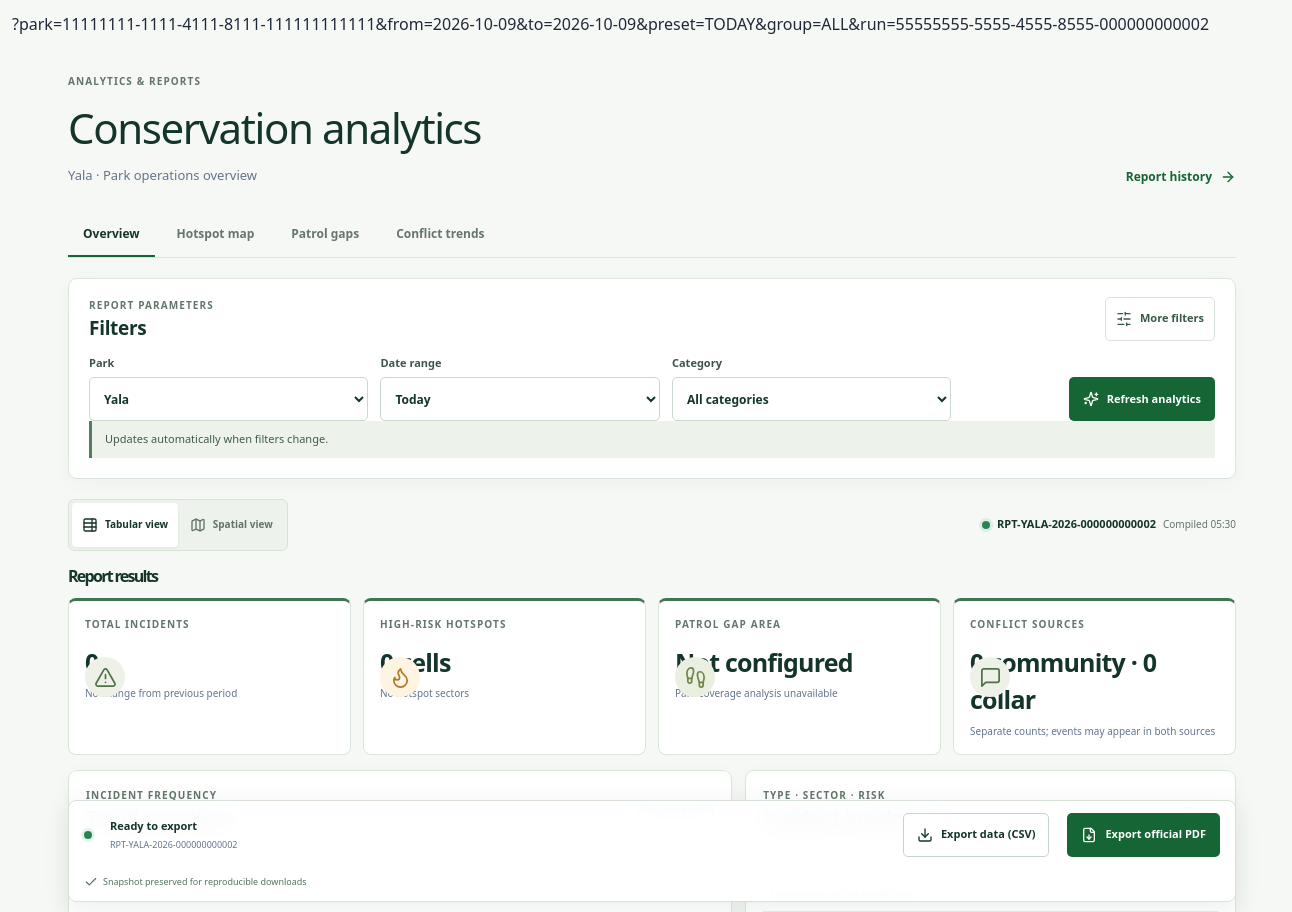
Test: automatic M4 analytics › does not repeatedly retry automatic failures and preserves results for manual retry
expect the heading "Report results" is shown: met, box [68,564,157,586]
Select "OTHER" in the dropdown labelled "Category" at (812, 399), box [672,377,952,421]
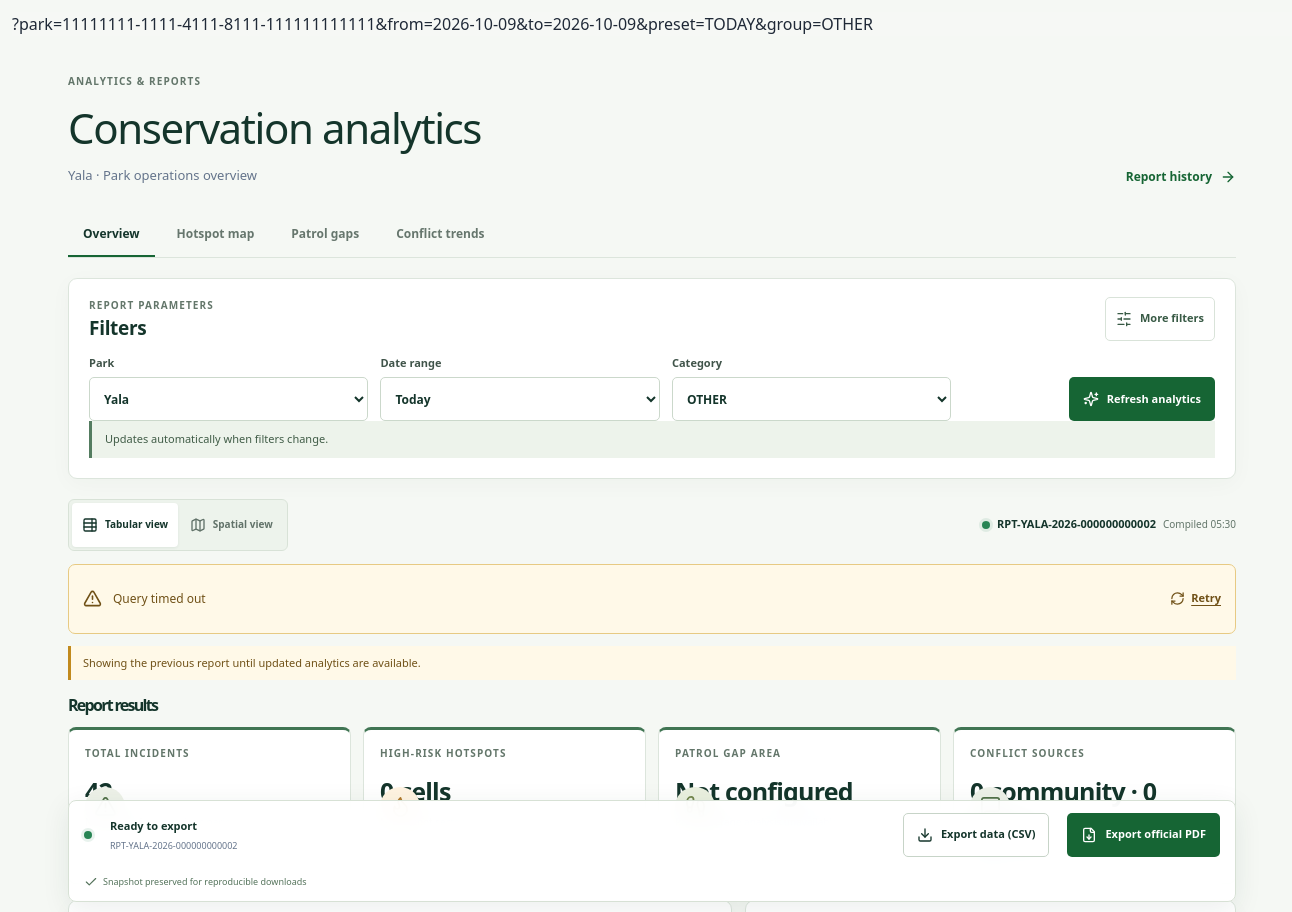
expect the heading "Report results" is shown: met, box [68,694,157,716]
expect the message "Query timed out Retry" is shown: met, box [68,564,1236,634]
Click the button "Retry" at (1196, 598), box [1170,576,1221,620]
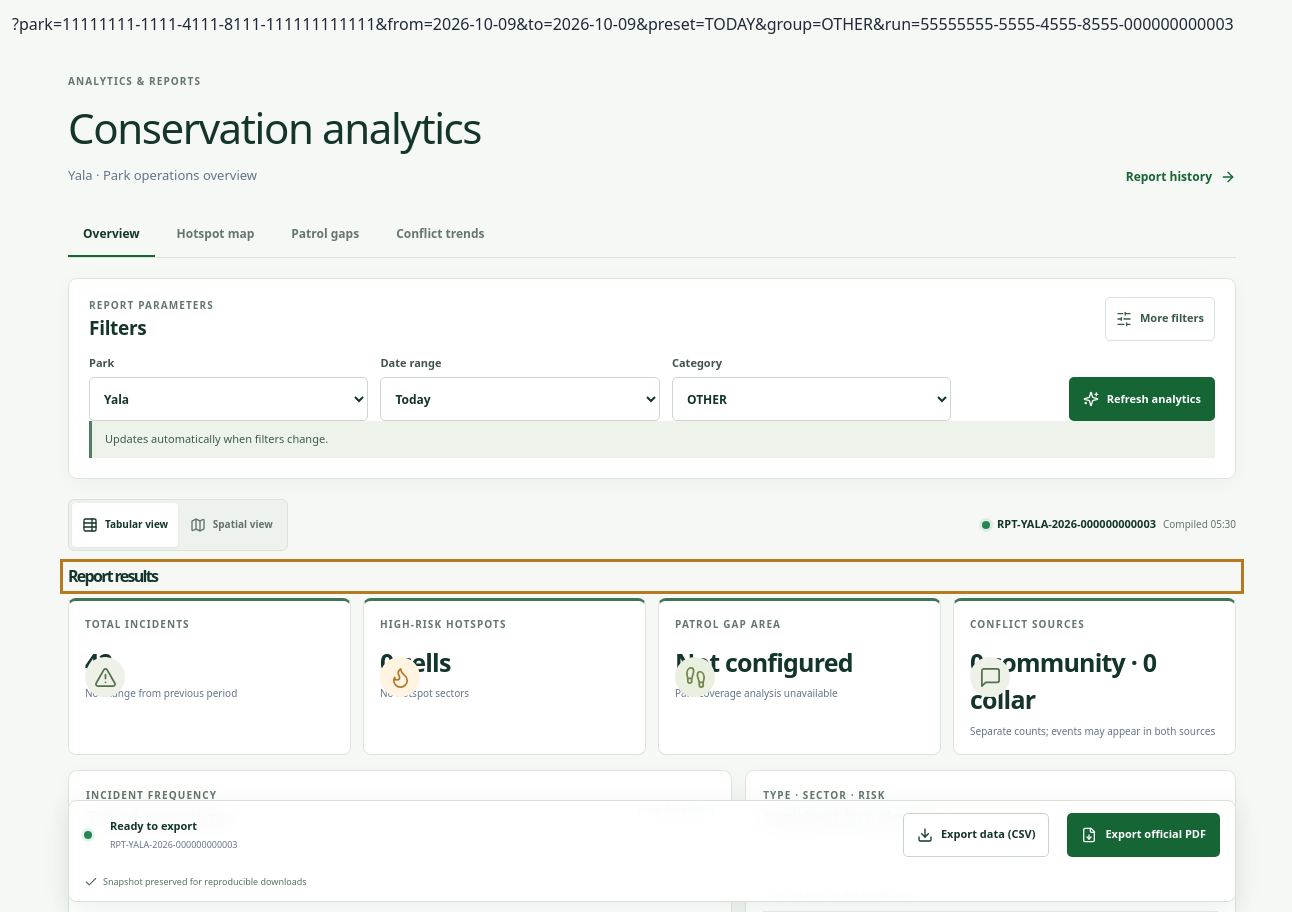
expect the message "Query timed out Retry" is gone: met
